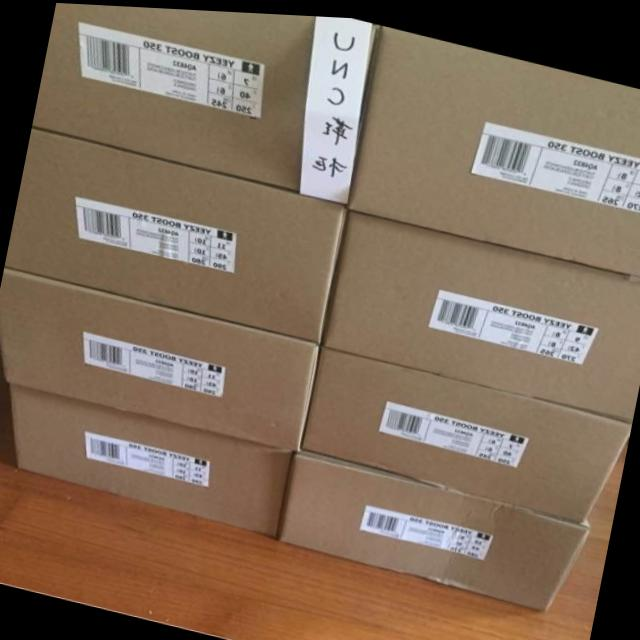box: (4, 125, 346, 342), (346, 21, 640, 272), (32, 2, 377, 201), (321, 207, 640, 415), (299, 340, 632, 520), (0, 270, 320, 446), (275, 447, 590, 609), (9, 382, 298, 533)
